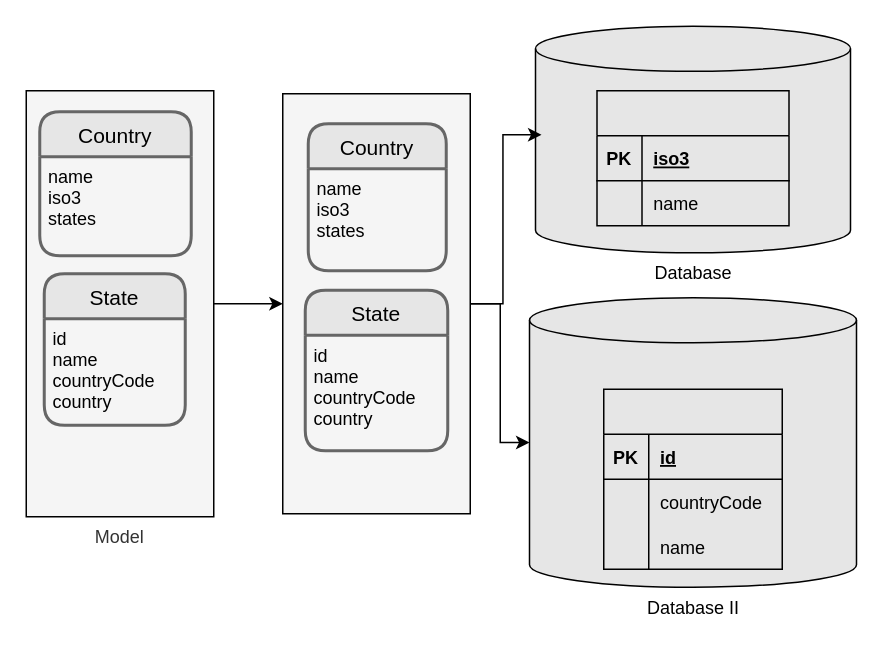
This 884x645 diagram has some shape labels left out. Here are the shapes that lost their labels. From the top down, the box of each, then its label:
(596, 89, 789, 226): Countries
(281, 92, 470, 514): Schema
(602, 388, 782, 569): States
